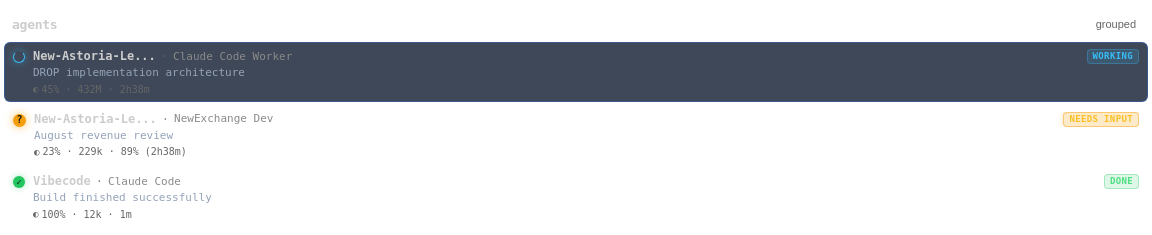
Test case: AgentsSidebarSection › toggles between grouped and all view modes when clicked
The image size is (1152, 235).
Click the button "grouped" at (1116, 24), box [1092,16,1140,32]
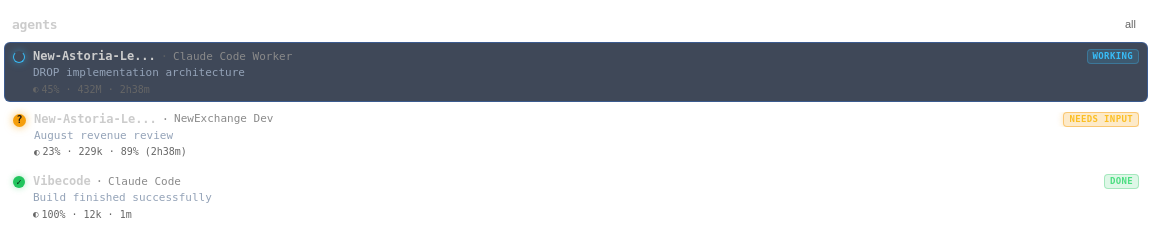
Now the button "all" is shown
Click the button "all" at (1130, 24), box [1121,16,1140,32]
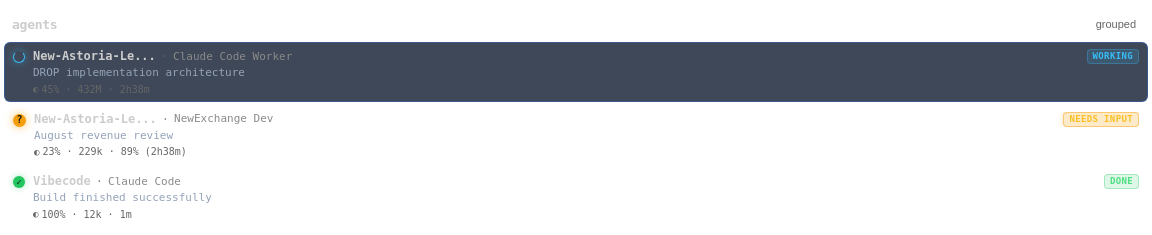
Now the button "grouped" is shown, box [1092,16,1140,32]
